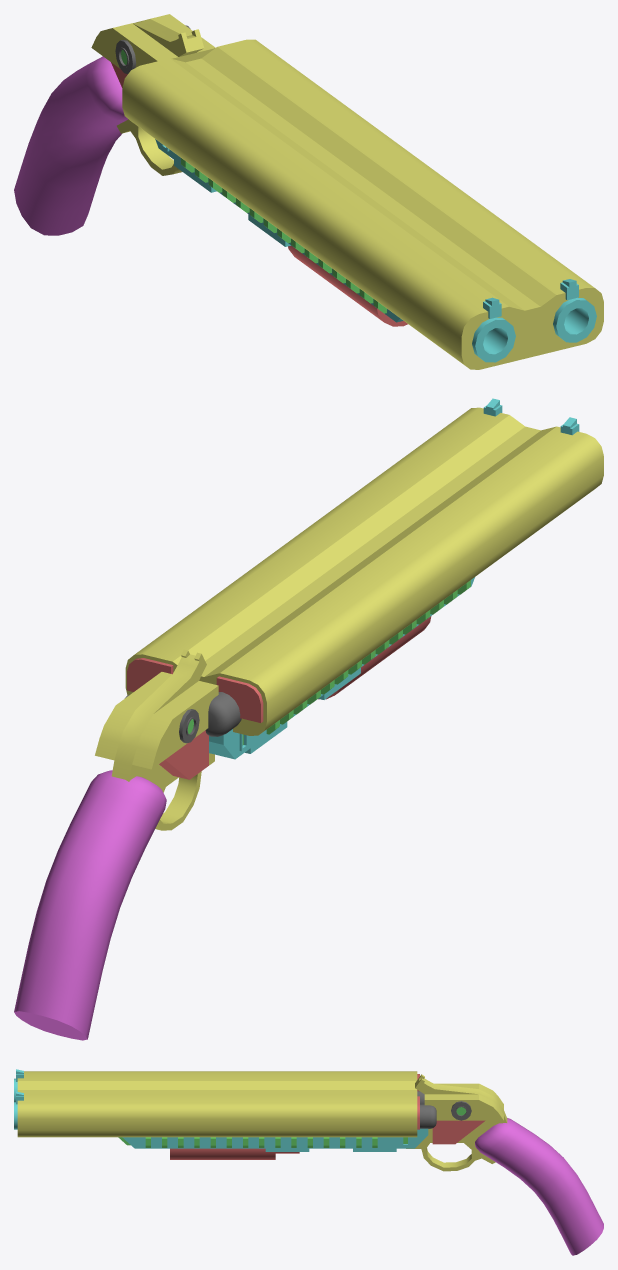
Rendered from Distance_Shotgun.fbx.
3 renders of one model, top to bottom at view 1: azimuth 30°, elevation 25°; view 2: azimuth 150°, elevation 25°; view 3: azimuth 270°, elevation 25°, orthographic. The views are drawn at different scales.
Visible parts, largest first — view 1: Distance_Shotgun; view 2: Distance_Shotgun; view 3: Distance_Shotgun.
Part boxes in pixels (x1=…): Distance_Shotgun: x1=14, y1=14, x2=603, y2=369; Distance_Shotgun: x1=14, y1=398, x2=603, y2=1040; Distance_Shotgun: x1=14, y1=1069, x2=603, y2=1255.
Size of the model in its own units: 0.1553 by 0.3085 by 0.9469.
